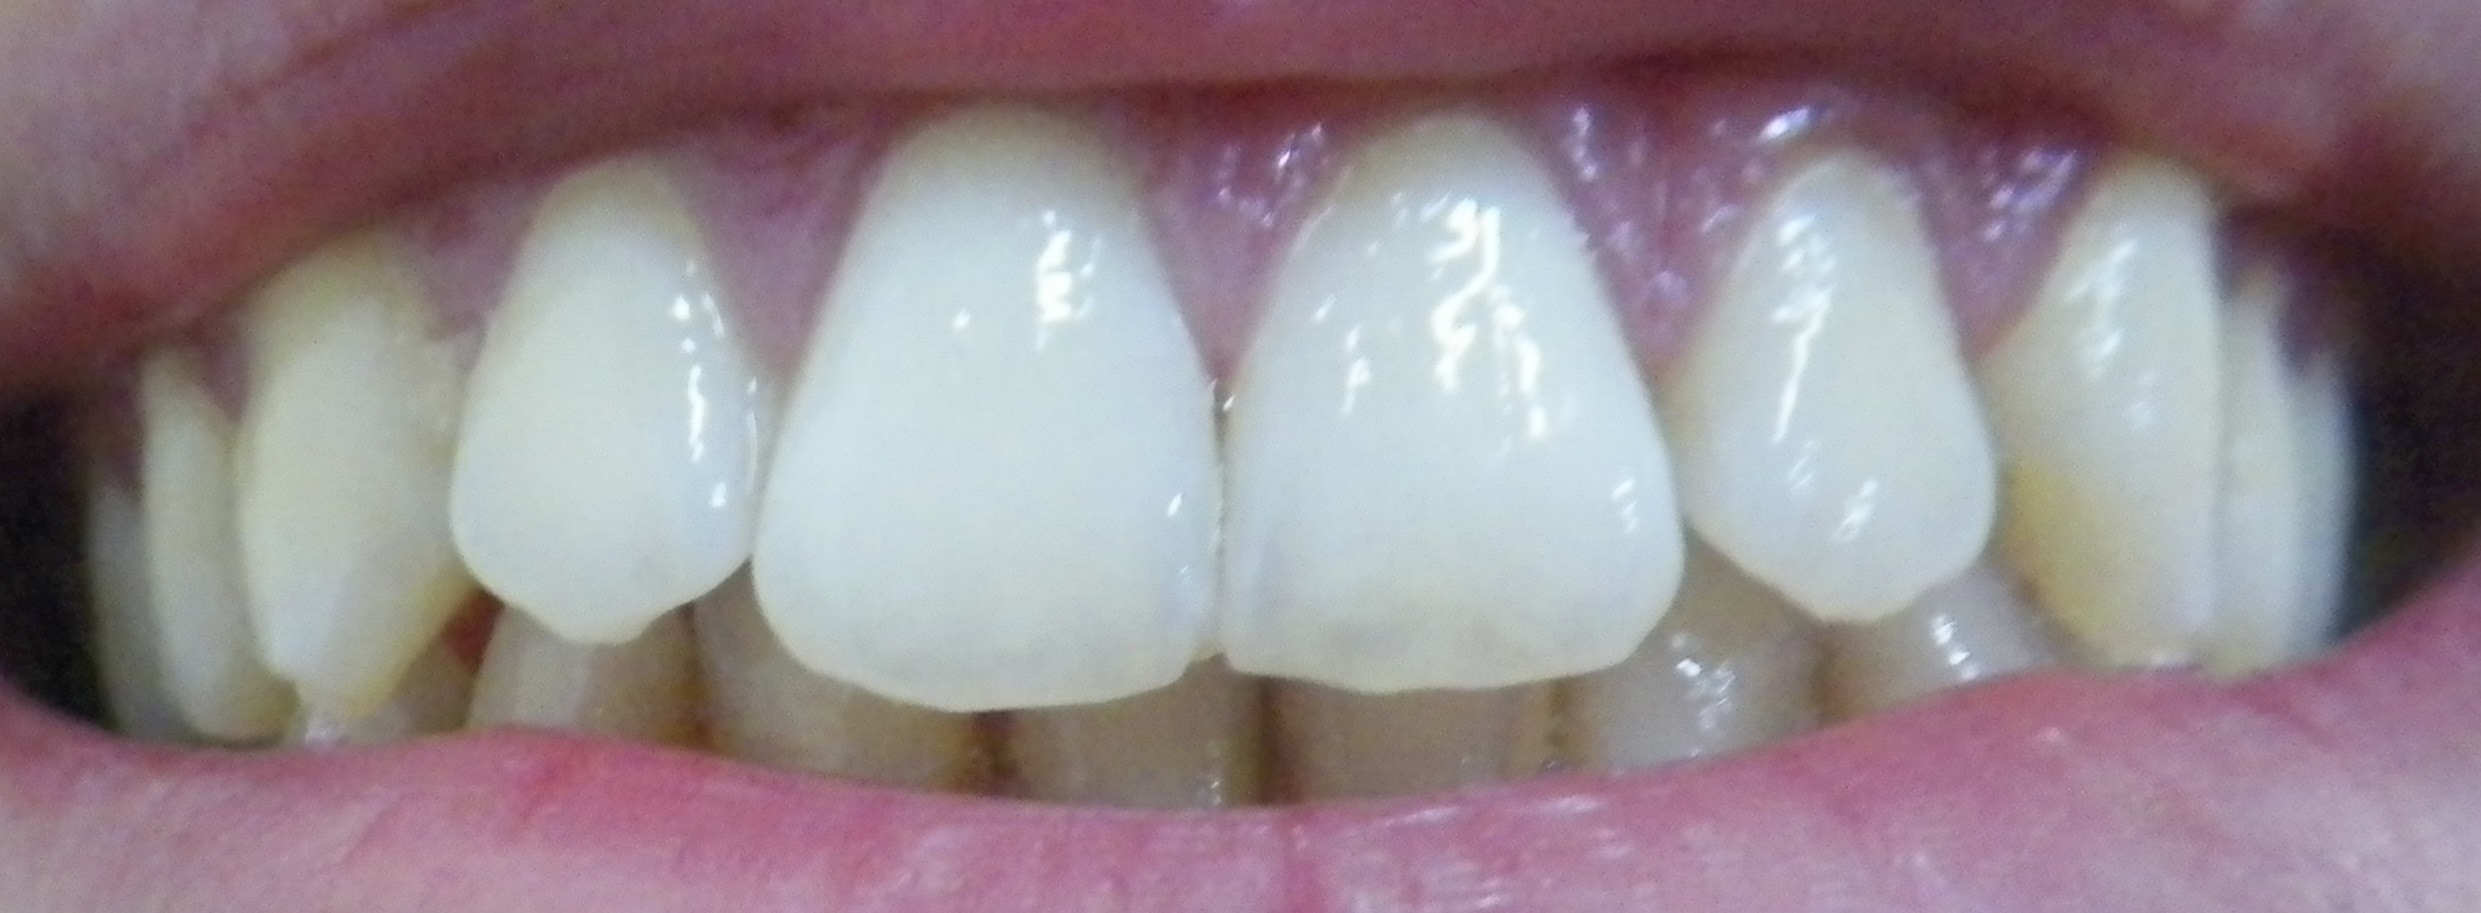boca: (101, 142, 2361, 820)
